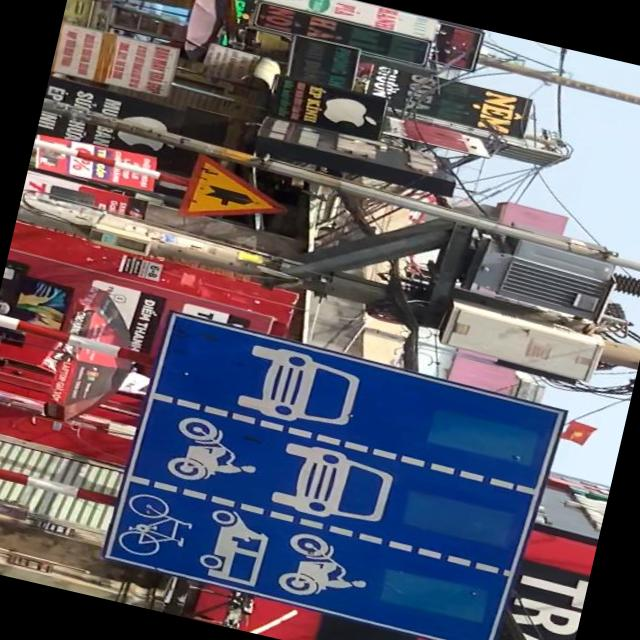W-207b: (174, 148, 296, 236)
